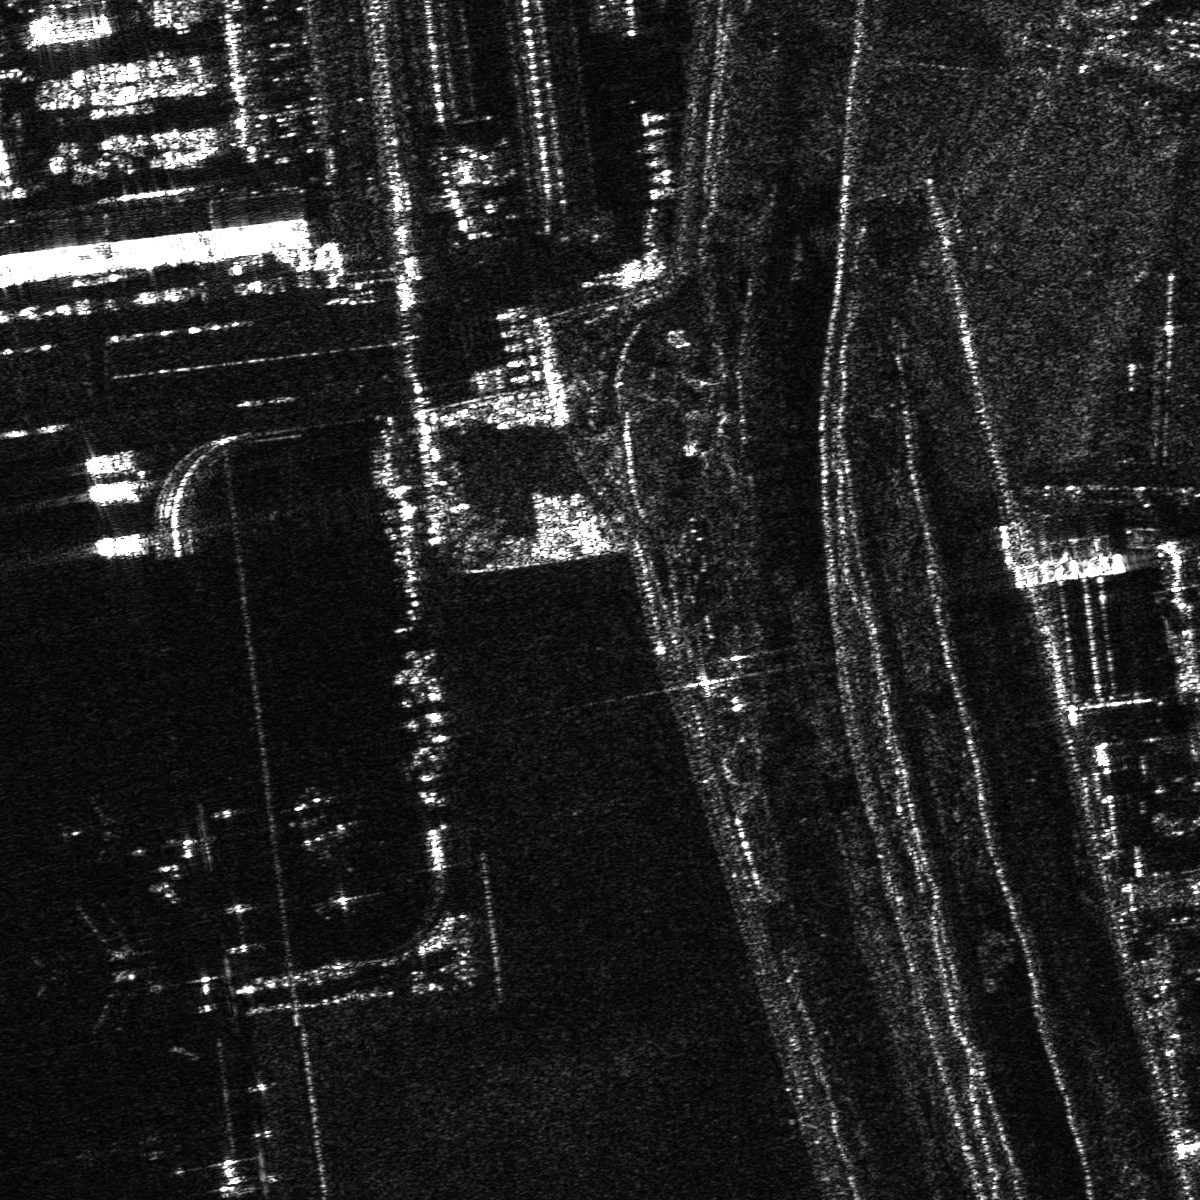Boeing787: (27, 896, 157, 1033), (53, 789, 130, 862)
